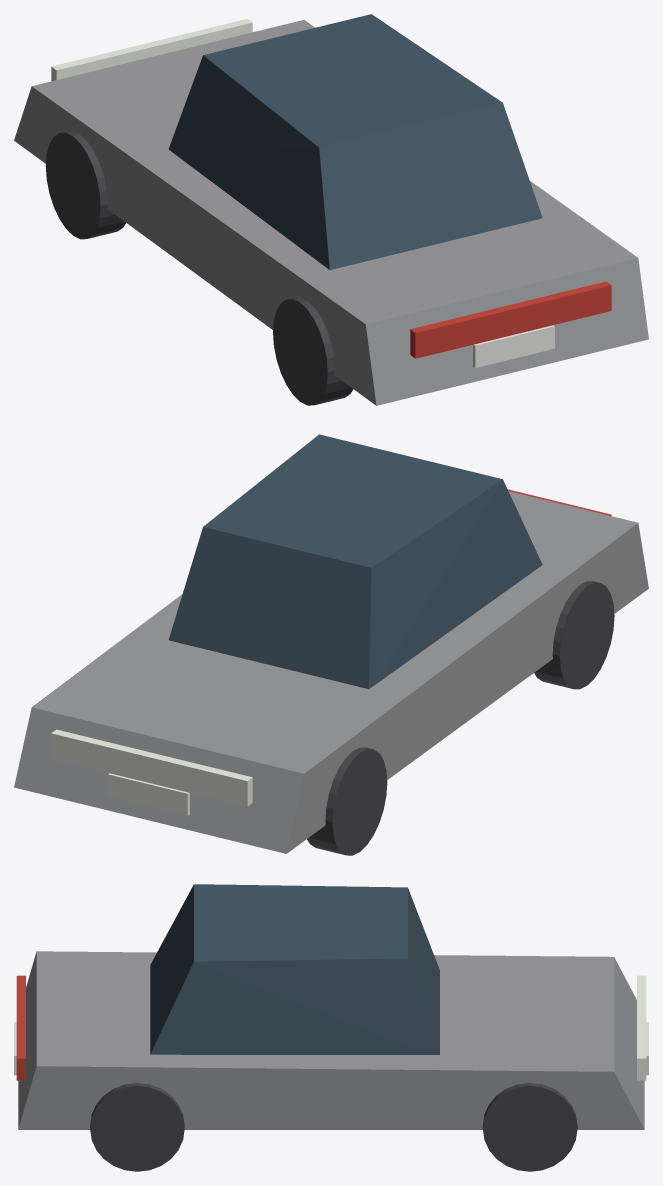
Rendered from visitor_hatchback_real3d.glb.
3 views of the same model, one above another, from view 1: azimuth 30°, elevation 25°; view 2: azimuth 150°, elevation 25°; view 3: azimuth 270°, elevation 25° (orthographic). The views are drawn at different scales.
Visible parts, largest first — view 1: body, cabin, world; view 2: body, cabin, world; view 3: body, cabin, world.
Boxes of the visible parts, x1,y1,x2,y2 form: body: (14,20,648,405); cabin: (168,14,542,269); world: (45,18,611,405); body: (14,491,648,853); cabin: (168,434,542,688); world: (51,489,614,855); body: (18,951,644,1129); cabin: (150,884,439,1054); world: (14,975,648,1171).
Bounding box in the file's own units: 1.87 × 1.36 × 4.16.
